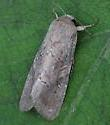army worm adult: (20, 12, 94, 122)
